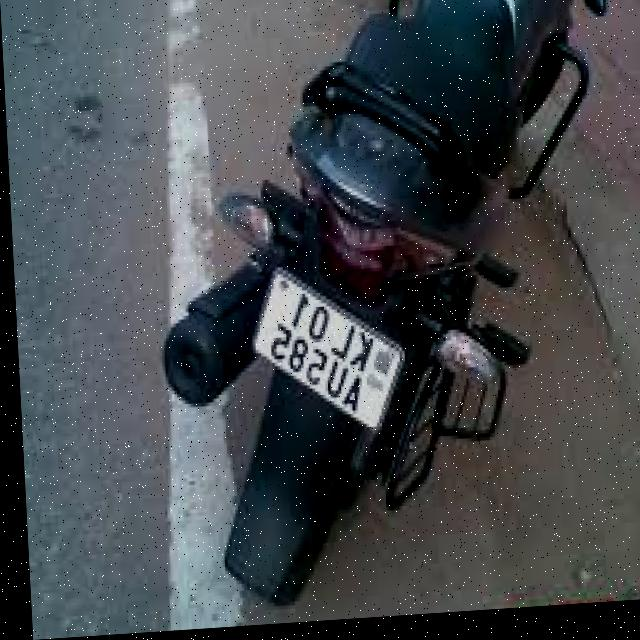plate: (244, 266, 406, 439)
